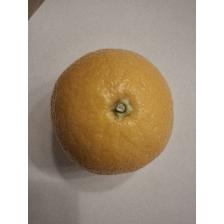Orange: (46, 43, 180, 180)
